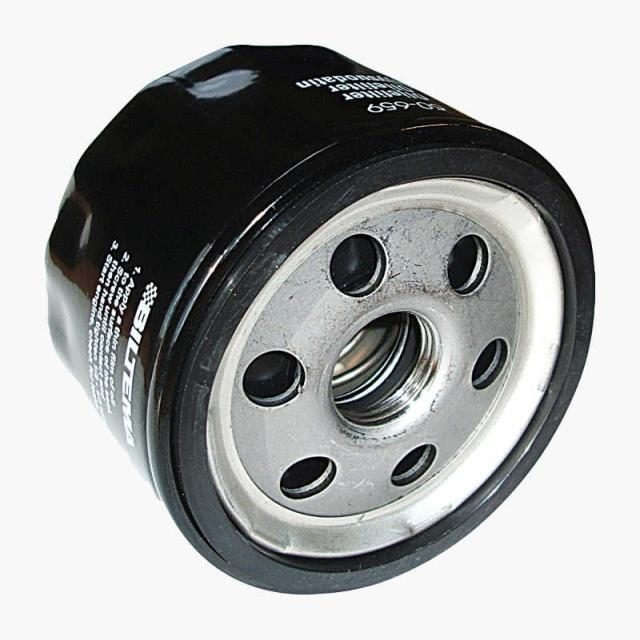oil_filter: (31, 33, 565, 594)
